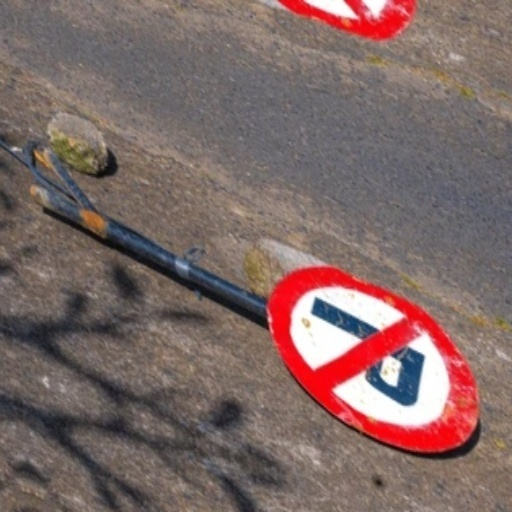No parking: (246, 226, 487, 471)
